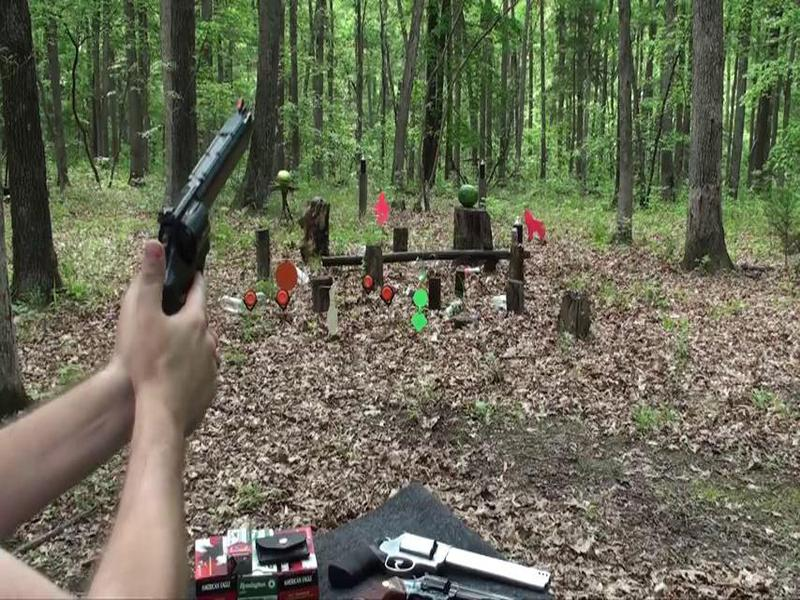Revolver: (153, 91, 278, 316)
